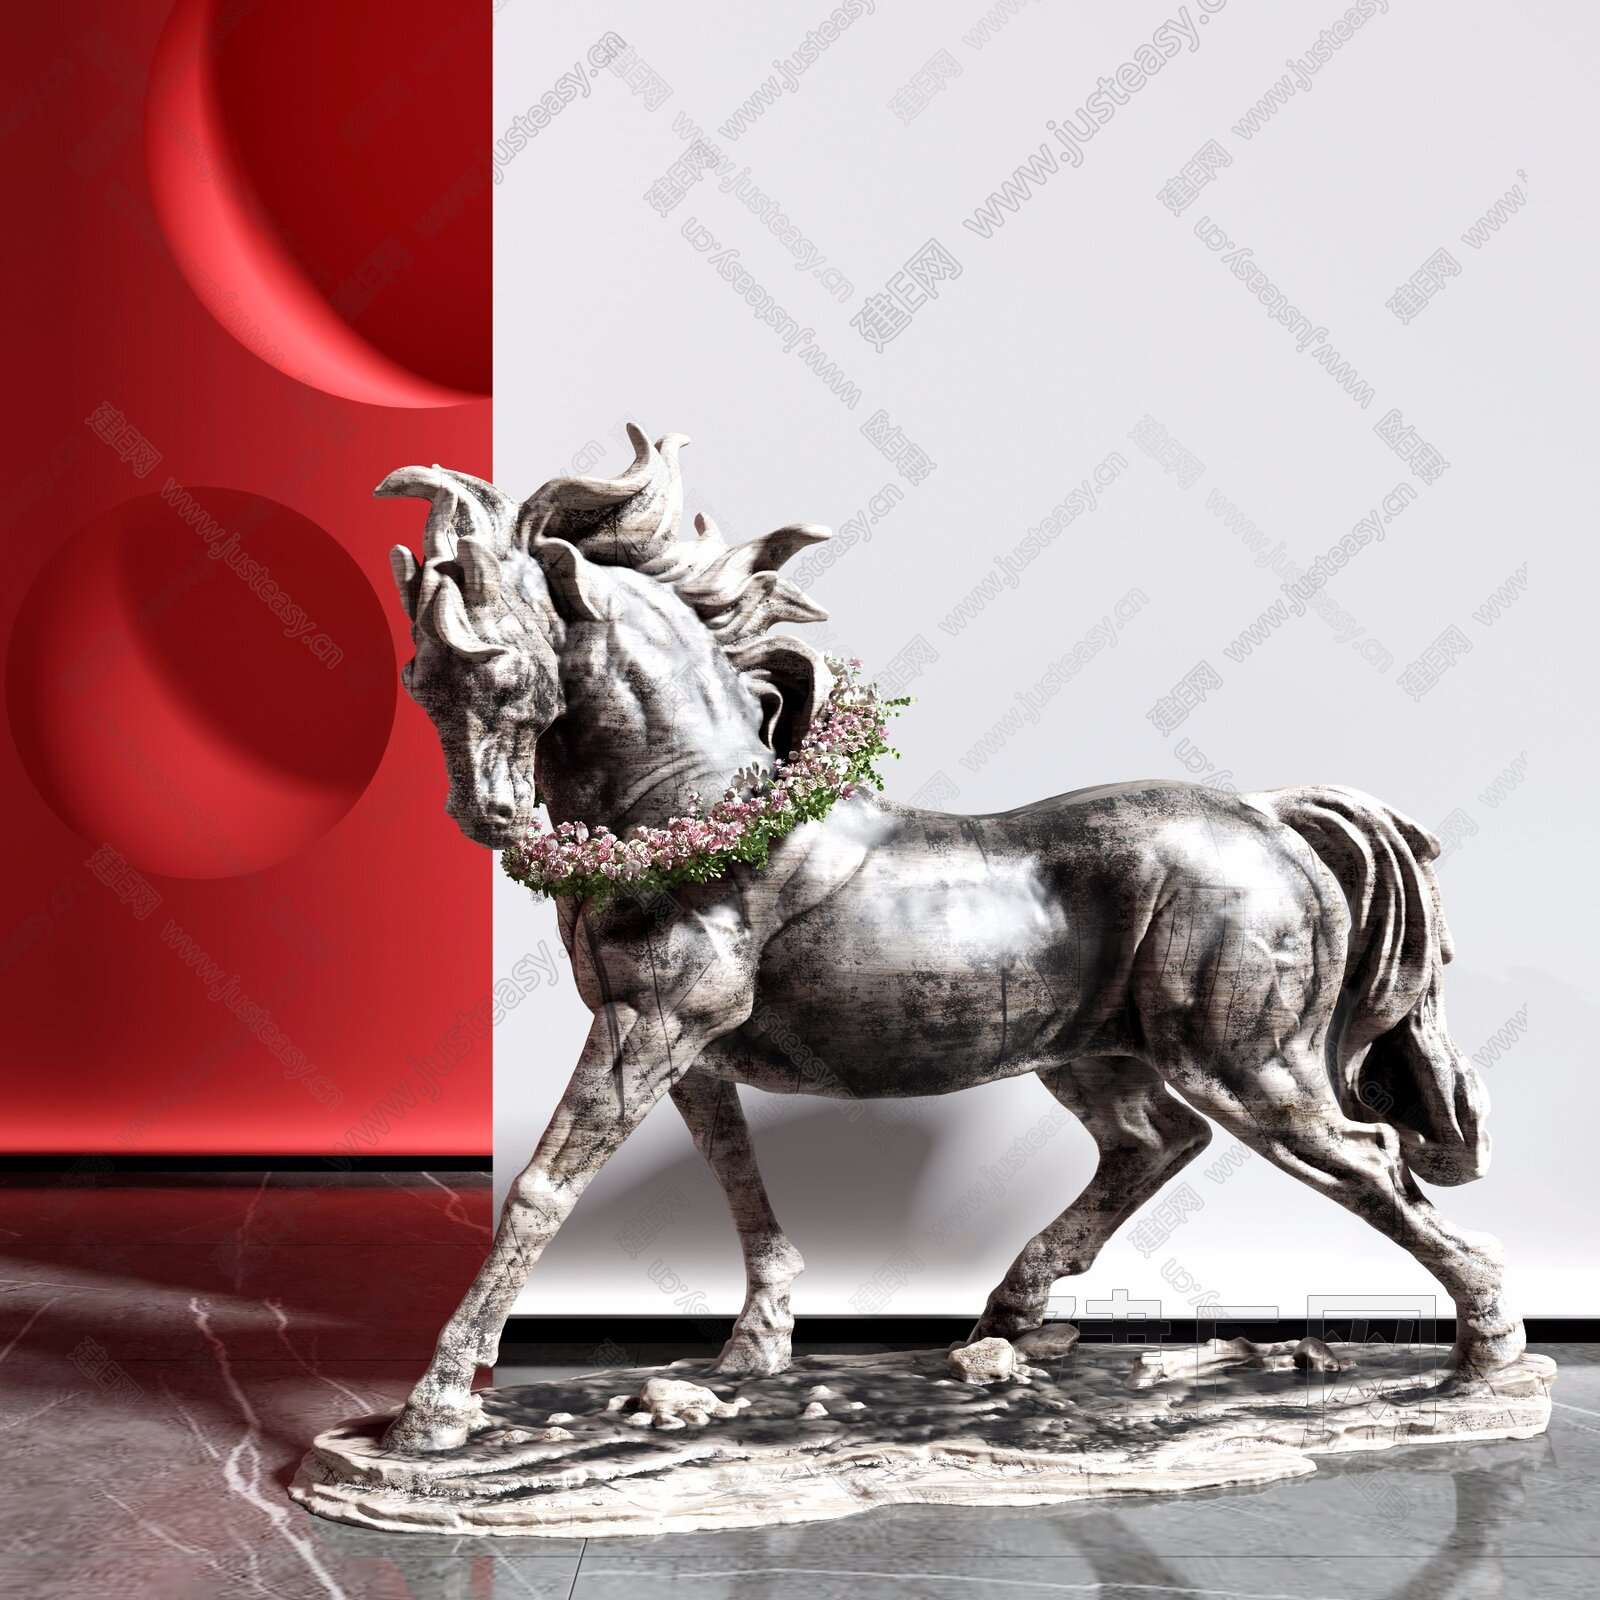background: (374, 432, 1577, 1440)
